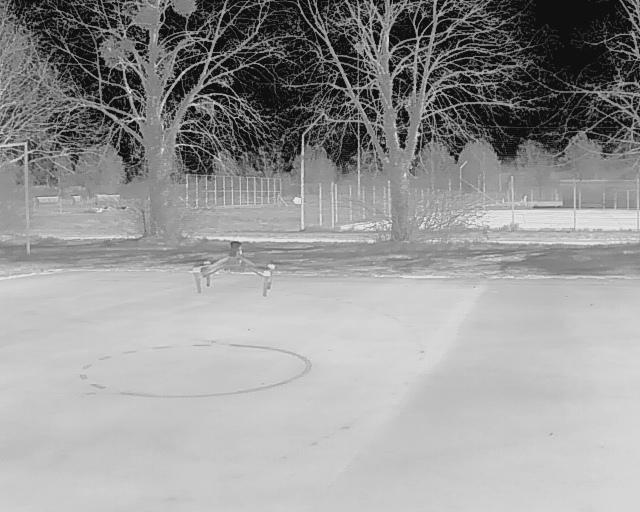drone: (168, 225, 299, 307)
